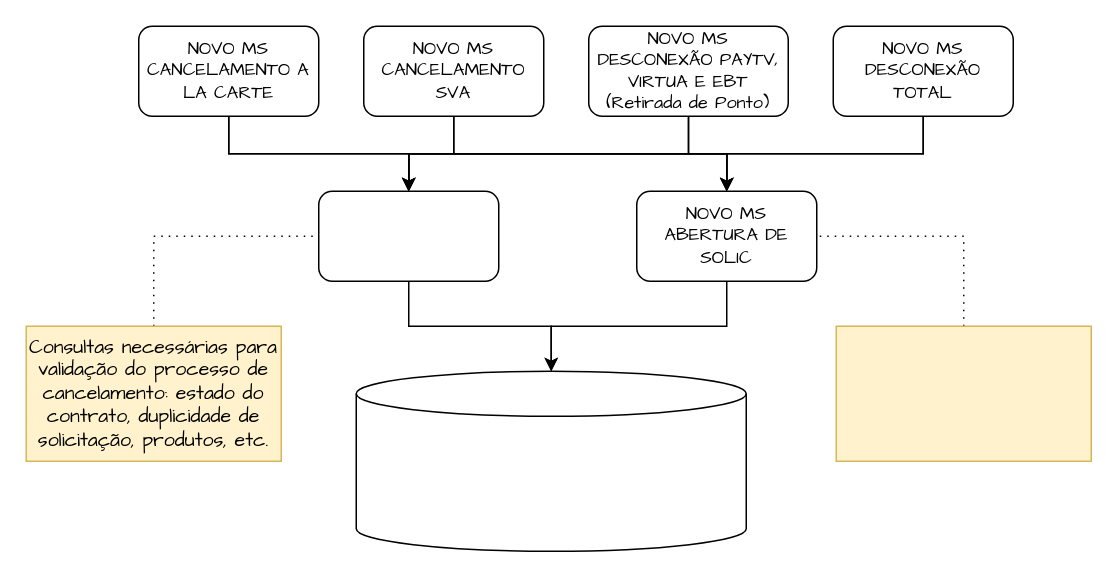
The diagram is 1118 pixels wide and 578 high, and some of its shapes have lost their labels. Here are the shapes that lost their labels. From the top down, the centre of each, then its label:
At point (408, 235): "NOVO MS VALIDAÇÃO".
At point (963, 393): "Abre as respectivas Solics e gera as respectivas ocorrências".
At point (550, 460): "NETSMS".
